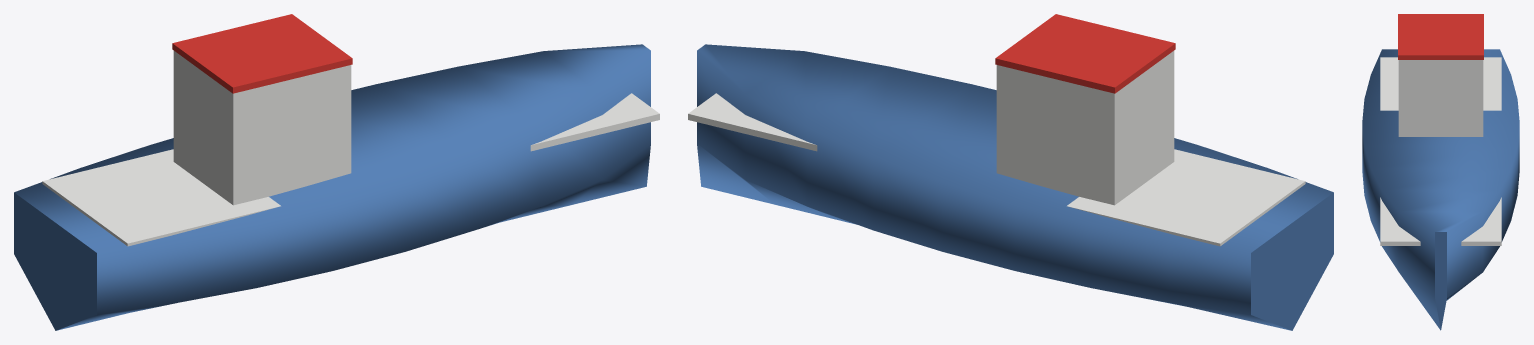
File: SM_FishingBoat.fbx
3 views of the same model, side by side, from view 1: azimuth 30°, elevation 25°; view 2: azimuth 150°, elevation 25°; view 3: azimuth 270°, elevation 25° (orthographic). The views are drawn at different scales.
Visible parts, largest first — view 1: SM_FishingBoat; view 2: SM_FishingBoat; view 3: SM_FishingBoat.
Boxes of the visible parts, x1,y1,x2,y2 form: SM_FishingBoat: (14,14,659,330); SM_FishingBoat: (688,14,1333,330); SM_FishingBoat: (1362,14,1519,330).
Bounding box in the file's own units: 800 × 297 × 260.
